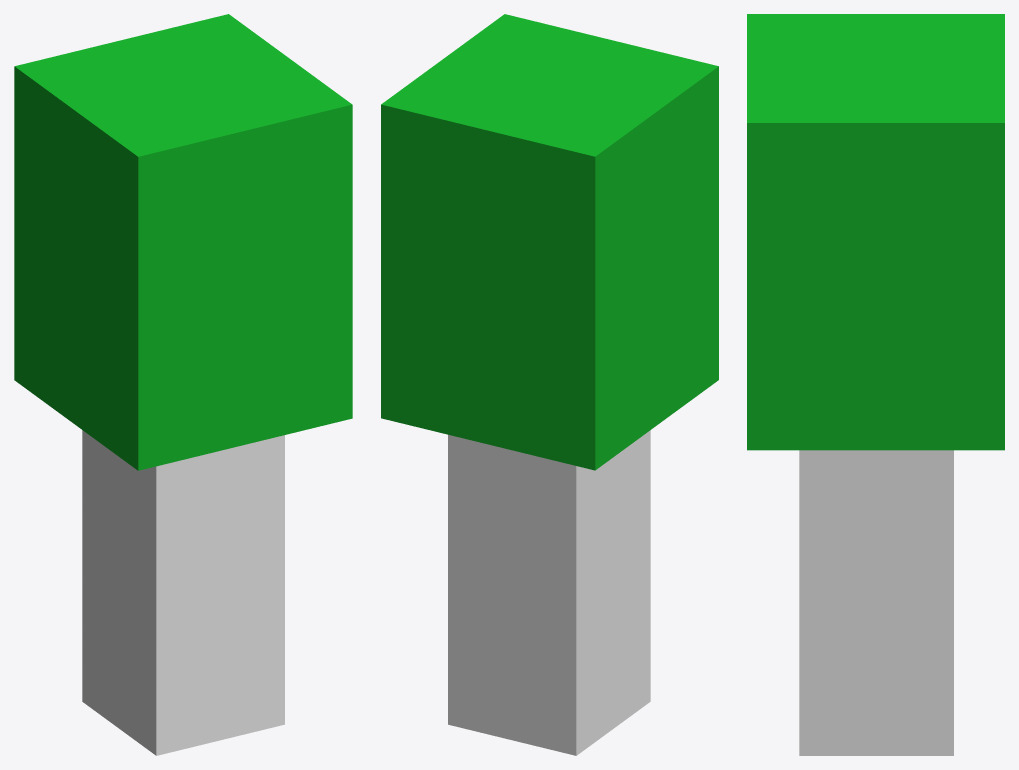
The model's file is Dynamic_1kg_0_5friction.fbx.
3 views of the same model, side by side, from view 1: azimuth 30°, elevation 25°; view 2: azimuth 150°, elevation 25°; view 3: azimuth 270°, elevation 25° (orthographic). The views are drawn at different scales.
Parts seen in each view (by area): view 1: D1DynamicBox1, D1DynamicBox2; view 2: D1DynamicBox1, D1DynamicBox2; view 3: D1DynamicBox1, D1DynamicBox2.
Boxes of the visible parts, x1,y1,x2,y2 form: D1DynamicBox1: [14, 14, 352, 470]; D1DynamicBox2: [82, 430, 284, 755]; D1DynamicBox1: [381, 14, 718, 470]; D1DynamicBox2: [448, 430, 650, 755]; D1DynamicBox1: [747, 14, 1004, 450]; D1DynamicBox2: [799, 450, 953, 755].
Size of what is drawn, in the model's own units: 5 by 14 by 5.
